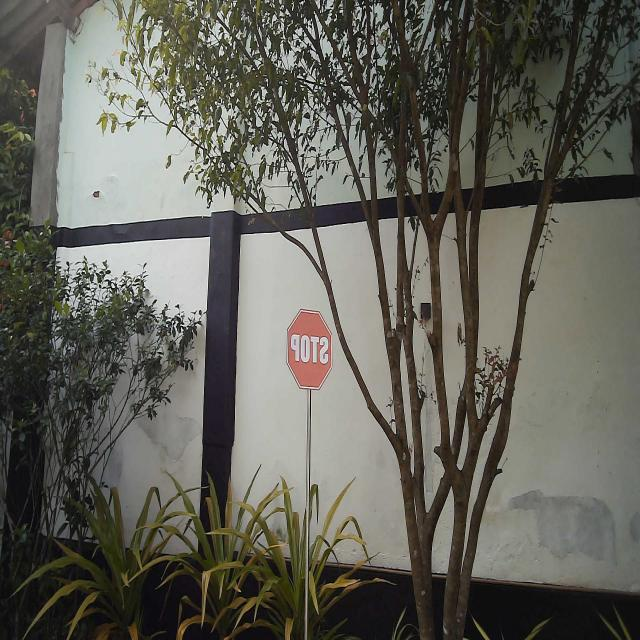stop: (285, 306, 333, 392)
